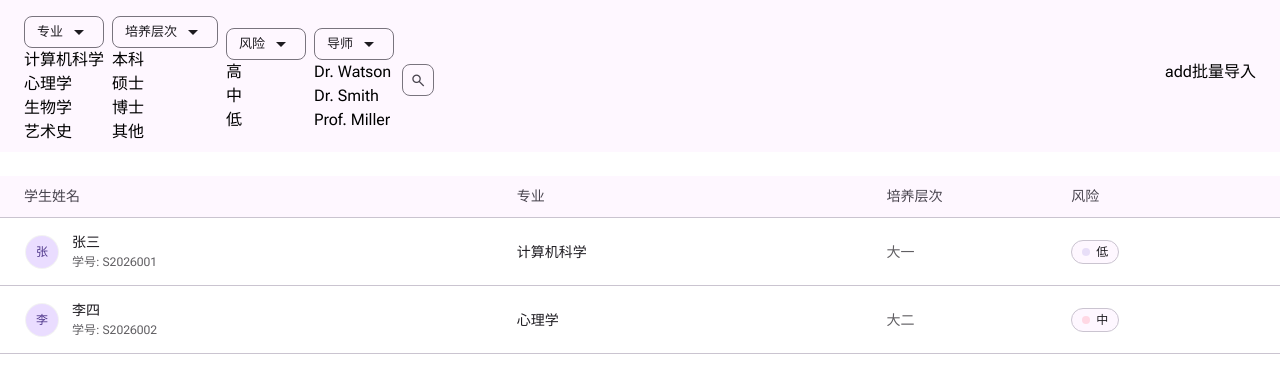
Test: StudentsView Component › filters students live using the ExpandableSearchBar
Expected: the text "张三" is shown, [72,234,100,250]
Expected: the text "李四" is shown, [72,302,100,318]
Expand the search bar
Click the button named "展开搜索": (418, 80) [402,64,434,96]
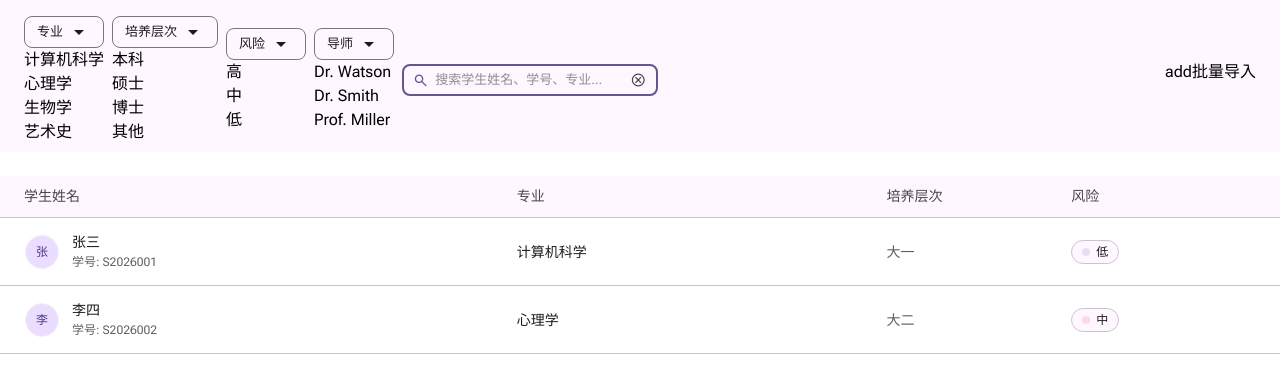
Now the field with placeholder "搜索学生姓名、学号、专业..." is shown
Type '李四'
In the field with placeholder "搜索学生姓名、学号、专业...": (529, 80) [435,70,622,90], type "李四"
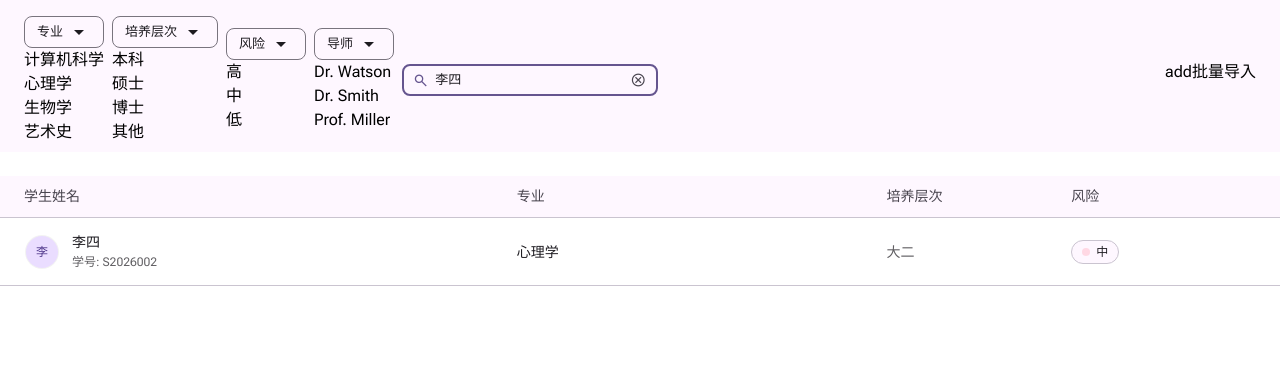
Now the text "李四" is shown, box [72,234,100,250]
Now the text "张三" is gone
Clear search using cancel button
Click the button named "清除搜索": (638, 80) [628,70,648,90]
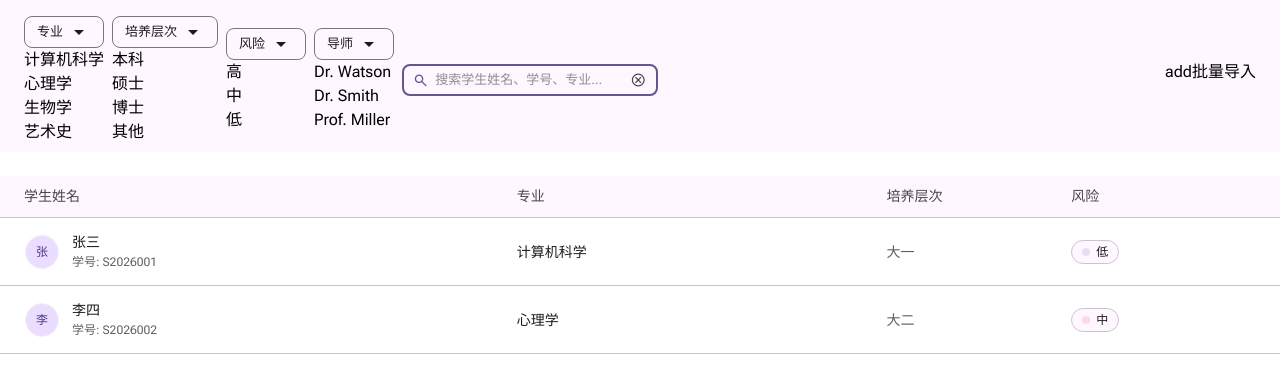
Expected: the text "李四" is shown, [72,302,100,318]
Now the text "张三" is shown, box [72,234,100,250]
